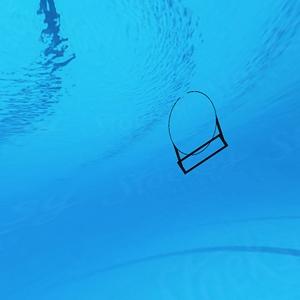circle: (167, 89, 228, 175)
